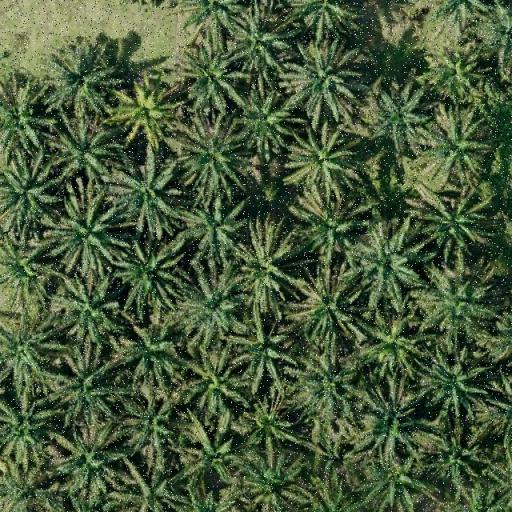Ganoderma: (122, 89, 168, 134)
